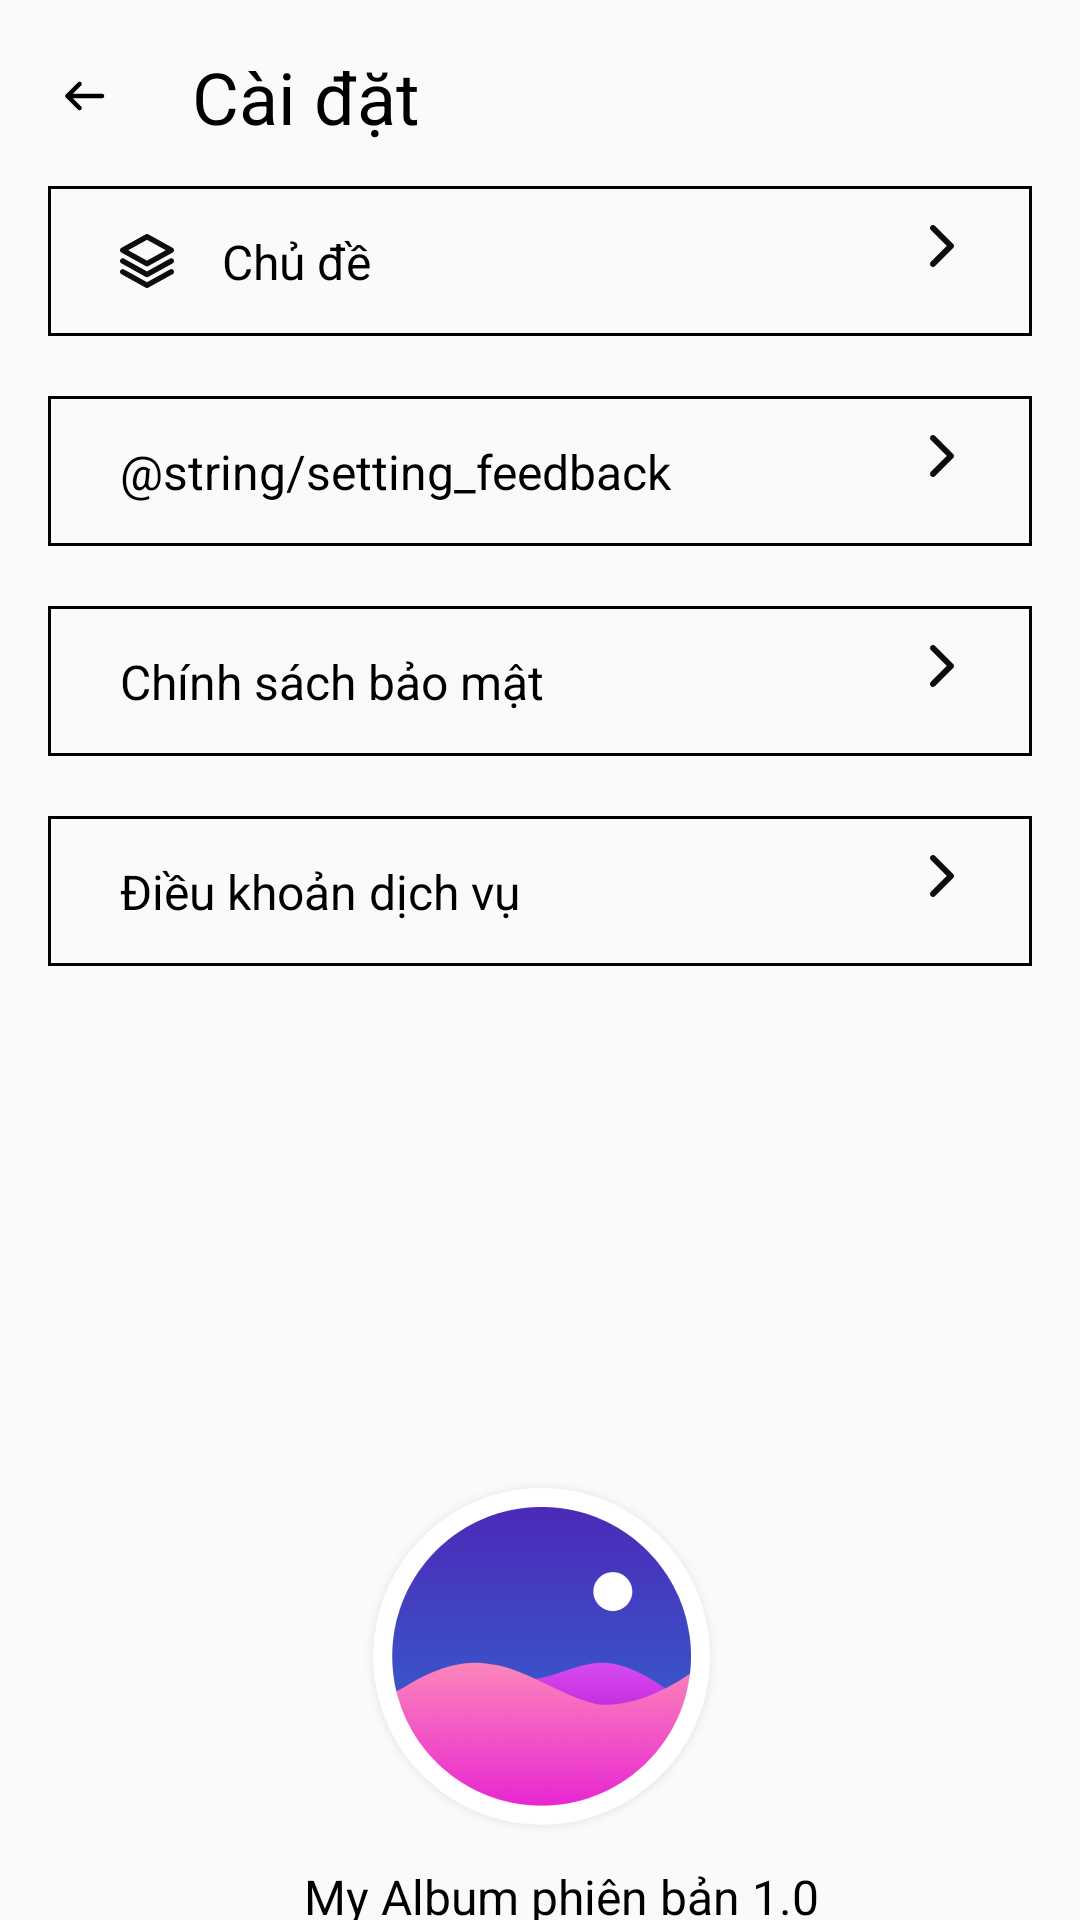

Screen size 1080 x 1920. Icon name, then its box in pixels as (x1, y1, x2, y2):
arrow left: (65, 81, 105, 111)
arrow right: (930, 225, 954, 267), (930, 435, 954, 477), (930, 645, 954, 687), (930, 855, 954, 897)
topic: (120, 234, 174, 288)
